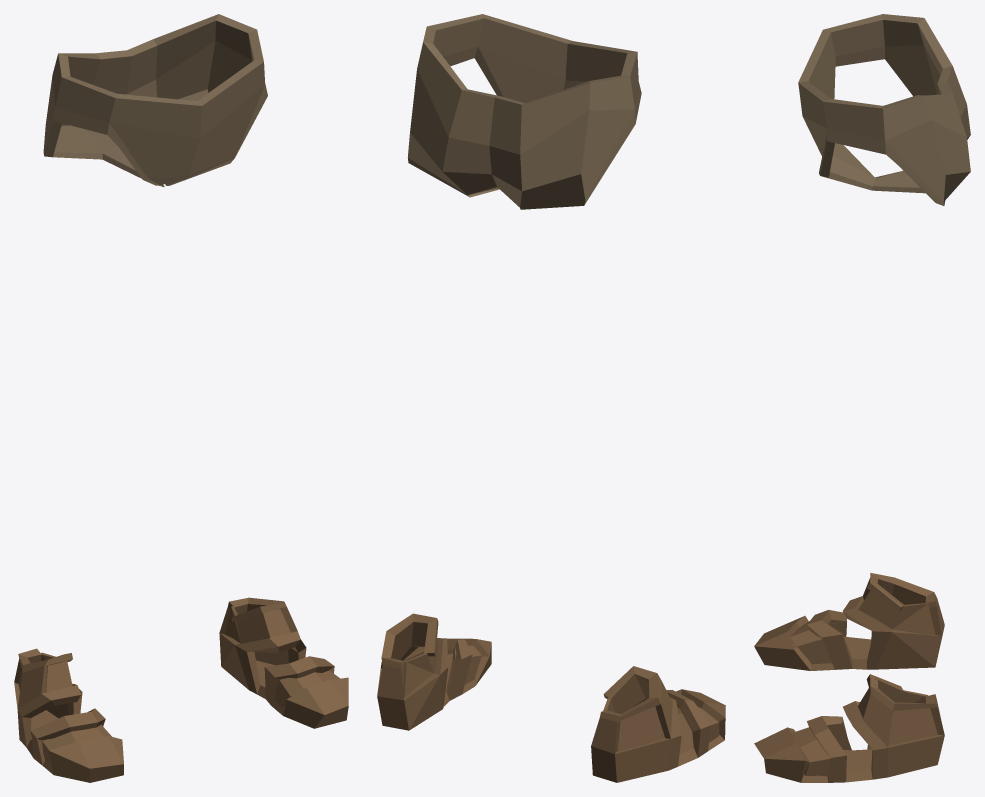
File: Mcitizen_bots.fbx
3 views of the same model, side by side, from view 1: azimuth 30°, elevation 25°; view 2: azimuth 150°, elevation 25°; view 3: azimuth 270°, elevation 25° (orthographic). The views are drawn at different scales.
Parts seen in each view (by area): view 1: M Citizen Shorts, M Citizen; view 2: M Citizen Shorts, M Citizen; view 3: M Citizen Shorts, M Citizen.
Part boxes in pixels (x1,y1,x2,y2): M Citizen Shorts: [14, 14, 348, 782]; M Citizen: [18, 602, 340, 764]; M Citizen Shorts: [377, 14, 725, 782]; M Citizen: [388, 619, 719, 758]; M Citizen Shorts: [754, 14, 970, 782]; M Citizen: [791, 577, 937, 776].
Size of the model in its own units: 100 by 212 by 63.32.
Materials: 2 (2 with a texture image).
